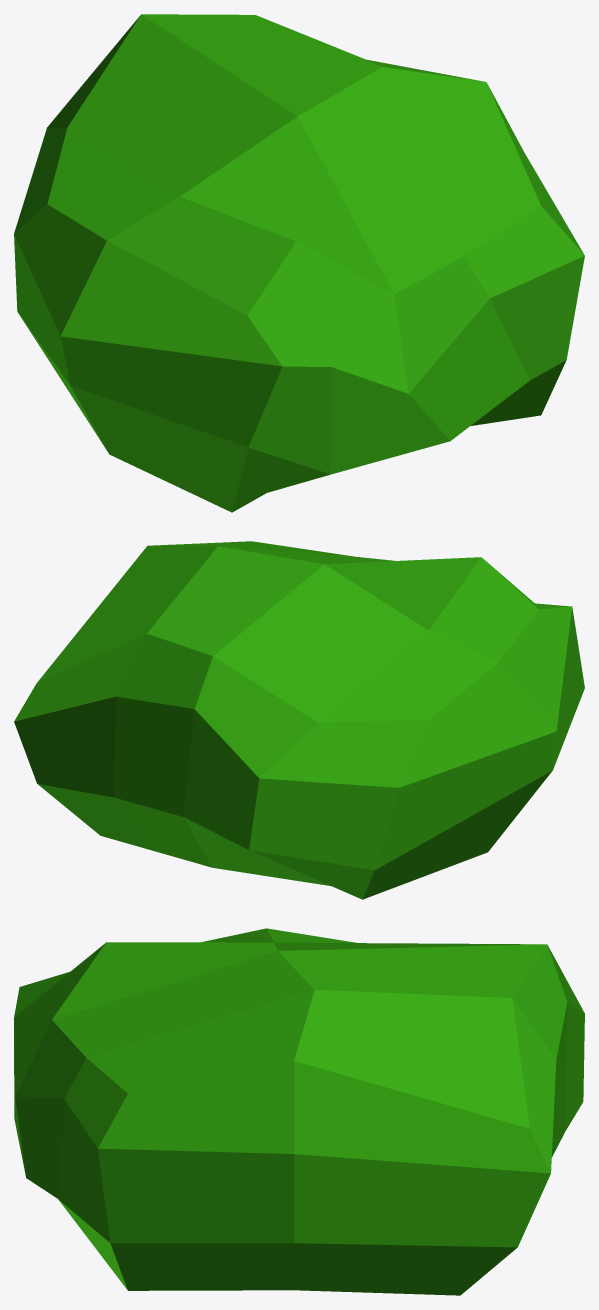
The model's file is Sc_arbusto_2.fbx.
The picture shows the model from 3 angles, top to bottom: view 1: azimuth 30°, elevation 25°; view 2: azimuth 150°, elevation 25°; view 3: azimuth 270°, elevation 25°; orthographic projection. The views are drawn at different scales.
Parts seen in each view (by area): view 1: ArbustoBosque; view 2: ArbustoBosque; view 3: ArbustoBosque.
Part boxes in pixels (bbox=[...]): ArbustoBosque: bbox=[14, 14, 584, 512]; ArbustoBosque: bbox=[14, 541, 584, 899]; ArbustoBosque: bbox=[14, 928, 584, 1295].
Bounding box in the file's own units: 102 × 61.97 × 107.
